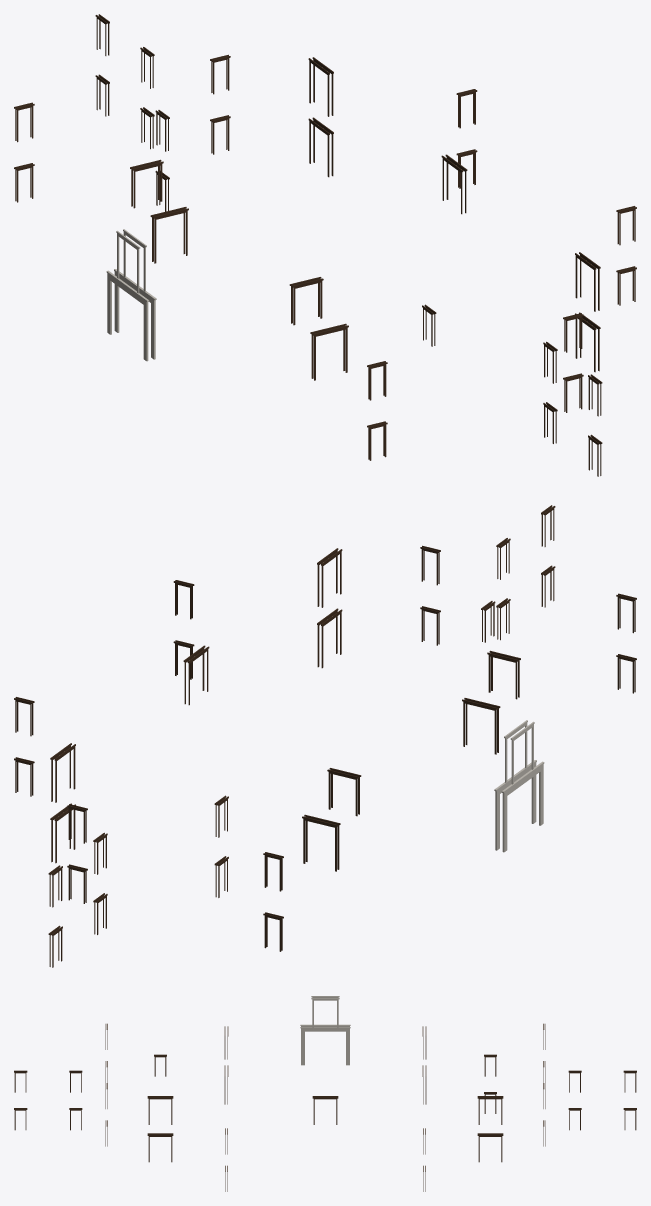
The model's file is SM_Malikane_Kapi_Kasalari.fbx.
The picture shows the model from 3 angles, top to bottom: view 1: azimuth 30°, elevation 25°; view 2: azimuth 150°, elevation 25°; view 3: azimuth 270°, elevation 25°; orthographic projection. The views are drawn at different scales.
Visible parts, largest first — view 1: Malikane_Kapi_Kasalari; view 2: Malikane_Kapi_Kasalari; view 3: Malikane_Kapi_Kasalari.
Boxes of the visible parts, bbox=[...] form: Malikane_Kapi_Kasalari: bbox=[14, 14, 636, 476]; Malikane_Kapi_Kasalari: bbox=[14, 505, 636, 967]; Malikane_Kapi_Kasalari: bbox=[14, 996, 636, 1191].
Bounding box in the file's own units: 3721 × 892 × 7550.
